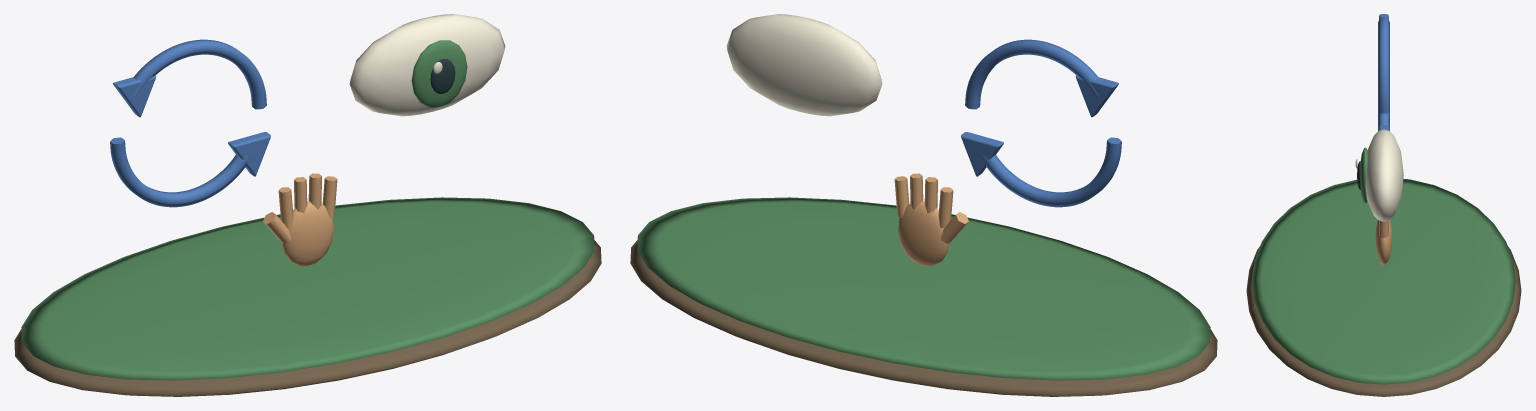
Rendered from complete-first-see-again-goodbye.glb.
3 renders of one model, left to right at view 1: azimuth 30°, elevation 25°; view 2: azimuth 150°, elevation 25°; view 3: azimuth 270°, elevation 25°, orthographic. The views are drawn at different scales.
Parts seen in each view (by area): view 1: complete-first-see-again-goodbye_surface_01, complete-first-see-again-goodbye_surface_00, complete-first-see-again-goodbye_surface_03, complete-first-see-again-goodbye_surface_02, complete-first-see-again-goodbye_surface_05, complete-first-see-again-goodbye_surface_04; view 2: complete-first-see-again-goodbye_surface_01, complete-first-see-again-goodbye_surface_03, complete-first-see-again-goodbye_surface_00, complete-first-see-again-goodbye_surface_02, complete-first-see-again-goodbye_surface_05; view 3: complete-first-see-again-goodbye_surface_01, complete-first-see-again-goodbye_surface_00, complete-first-see-again-goodbye_surface_03, complete-first-see-again-goodbye_surface_02, complete-first-see-again-goodbye_surface_05.
Boxes of the visible parts, x1,y1,x2,y2 form: complete-first-see-again-goodbye_surface_01: [21, 40, 594, 380]; complete-first-see-again-goodbye_surface_00: [14, 240, 601, 396]; complete-first-see-again-goodbye_surface_03: [349, 14, 505, 116]; complete-first-see-again-goodbye_surface_02: [110, 39, 270, 207]; complete-first-see-again-goodbye_surface_05: [263, 173, 337, 266]; complete-first-see-again-goodbye_surface_04: [430, 59, 455, 93]; complete-first-see-again-goodbye_surface_01: [637, 197, 1210, 380]; complete-first-see-again-goodbye_surface_03: [726, 14, 882, 116]; complete-first-see-again-goodbye_surface_00: [630, 240, 1217, 396]; complete-first-see-again-goodbye_surface_02: [961, 39, 1121, 207]; complete-first-see-again-goodbye_surface_05: [894, 173, 968, 266]; complete-first-see-again-goodbye_surface_01: [1252, 147, 1515, 384]; complete-first-see-again-goodbye_surface_00: [1246, 246, 1521, 396]; complete-first-see-again-goodbye_surface_03: [1355, 129, 1403, 221]; complete-first-see-again-goodbye_surface_02: [1378, 14, 1389, 130]; complete-first-see-again-goodbye_surface_05: [1375, 220, 1392, 264].
Size of the model in its own units: 4.56 by 2.36 by 2.5.
